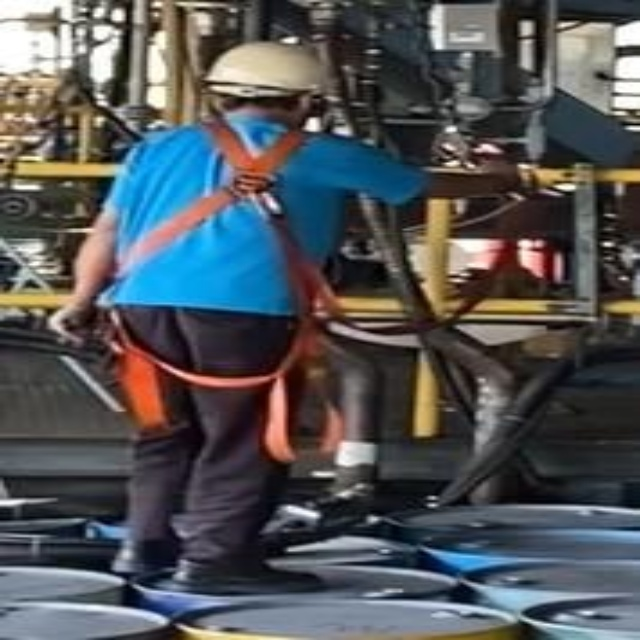Arnes_seguridad: (97, 120, 355, 467)
